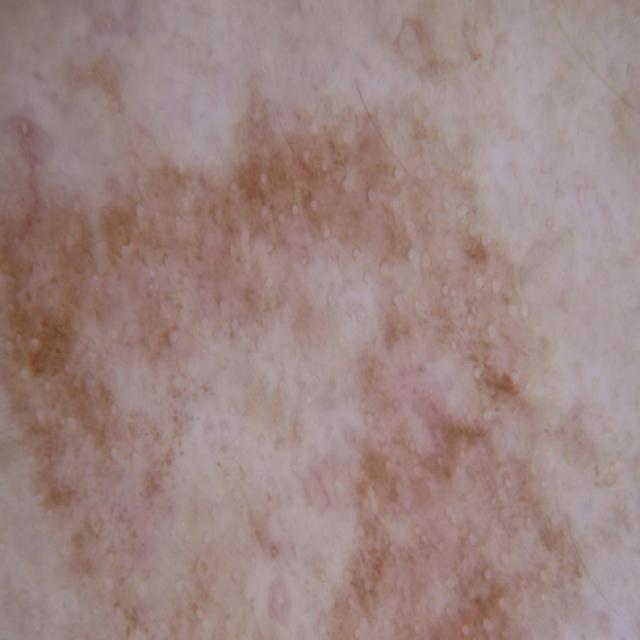Keratosis: (0, 97, 640, 640)
